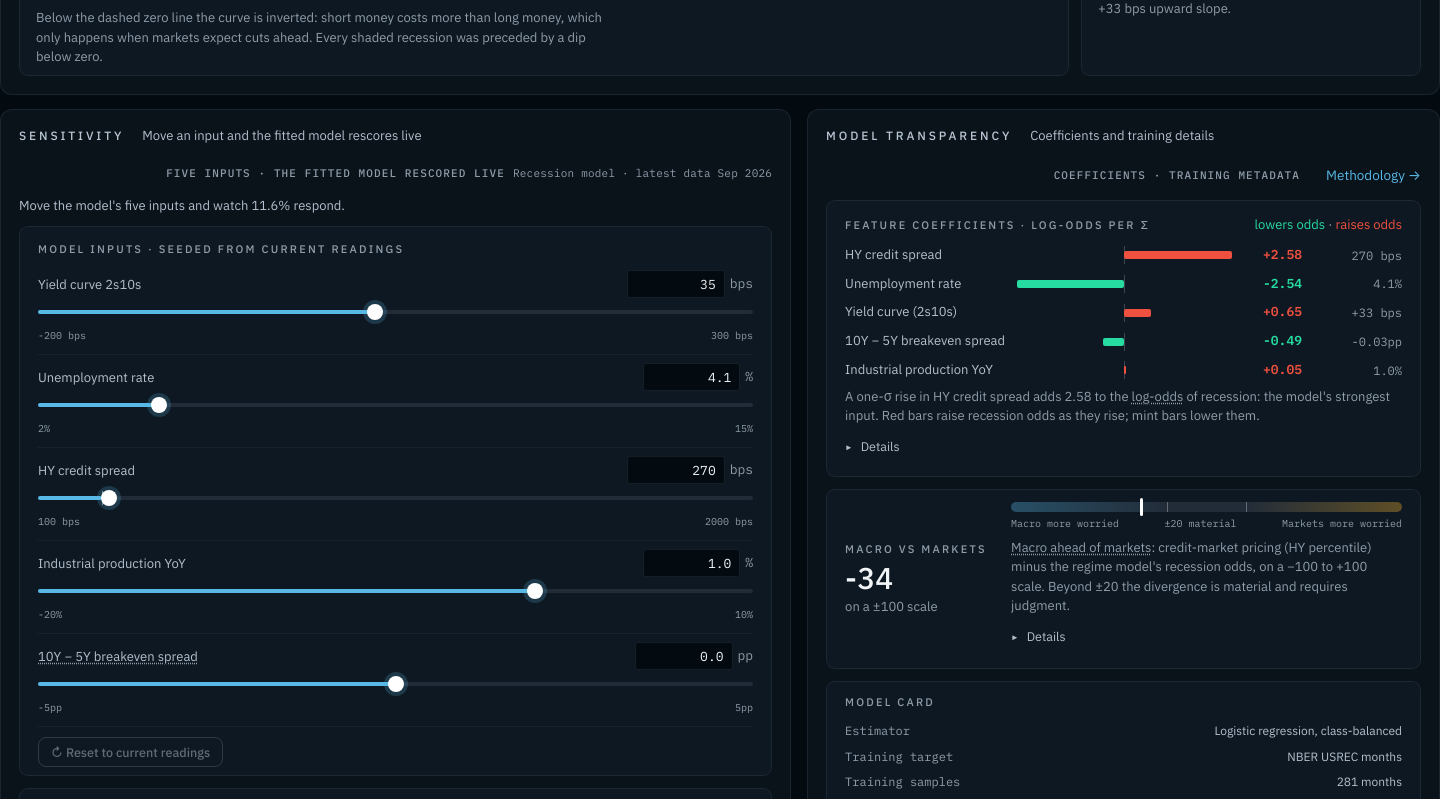
RecessionScreen (checklist 07 E.1) › moving the Unemployment rate slider to 4.8 flags the row, flips the eyebrows, posts the new input and renders 49.0% High Risk while the model's reading stays 11
(page scrolled)
Set the slider labelled "Unemployment rate" to "4.8" at (197, 405), box 38,391 -> 753,419
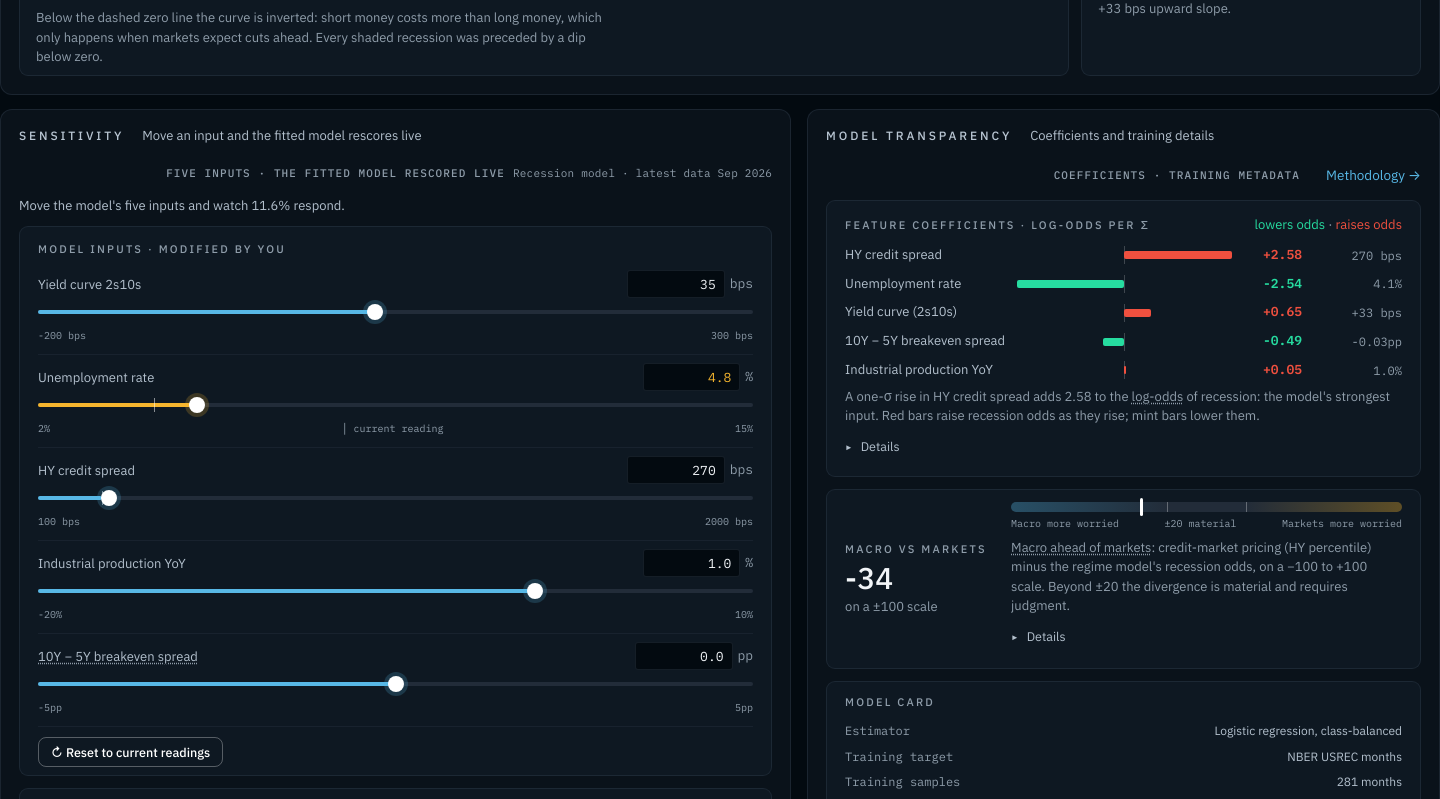
expect the element with class "mrr-slider-row" shows "│ current reading": met, box 342,422 -> 444,435
expect the text "Model inputs · modified by you" is shown: met, box 38,242 -> 286,256
expect the button "↻ Reset to current readings" is enabled: met
Click the button "↻ Reset to current readings".
click(131, 752)  # box 38,737 -> 223,767
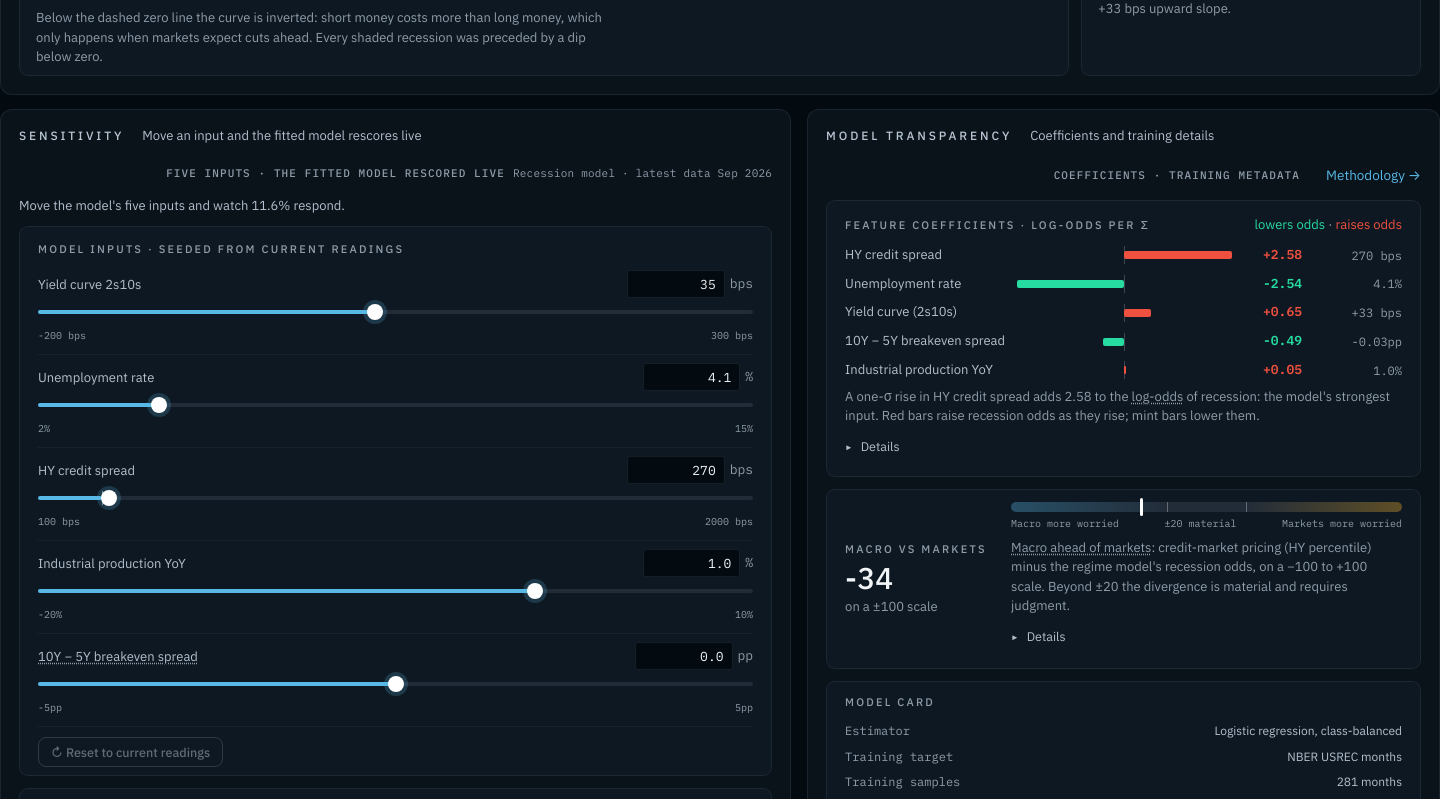
expect the text "Model inputs · seeded from current readings" is shown: met, box 38,242 -> 404,256
expect the button "↻ Reset to current readings" is disabled: met, box 38,737 -> 223,767
